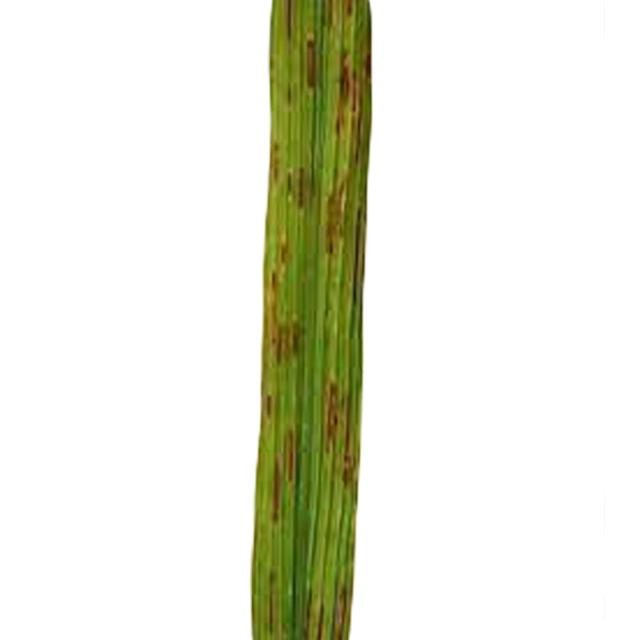Brown spot: (230, 1, 409, 640)
